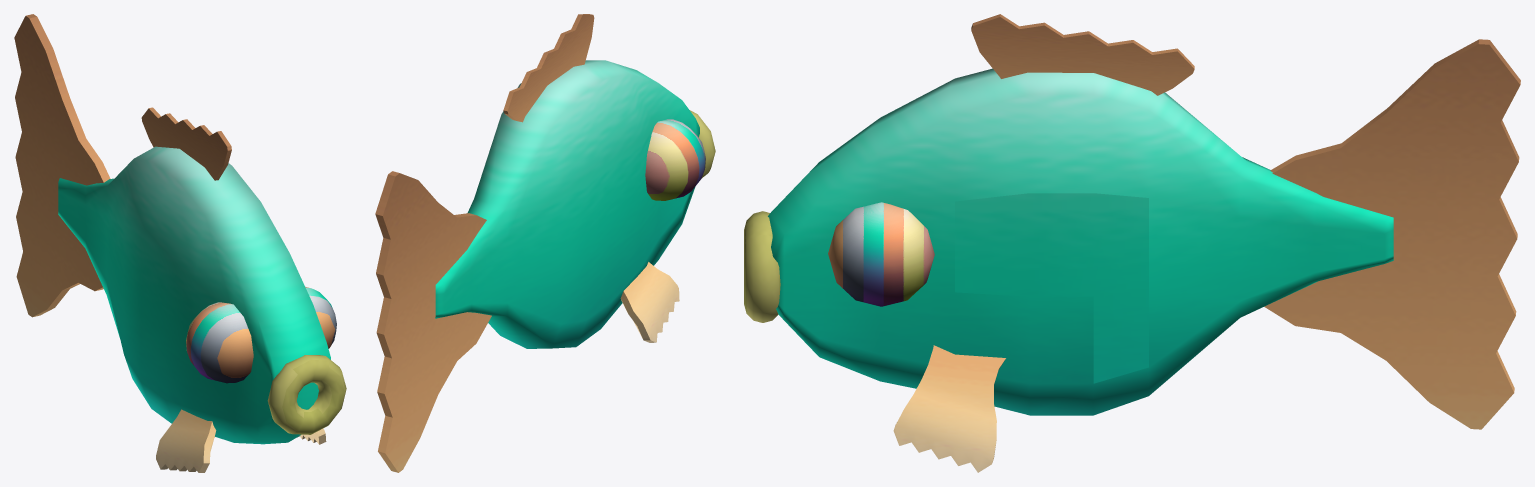
File: Fishy3.fbx
3 views of the same model, side by side, from view 1: azimuth 30°, elevation 25°; view 2: azimuth 150°, elevation 25°; view 3: azimuth 270°, elevation 25° (orthographic). The views are drawn at different scales.
Visible parts, largest first — view 1: pCube3, pPlane2, pSphere1, pTorus1, pPlane3, pPlane1; view 2: pCube3, pPlane2, pSphere1, pPlane3, pPlane1, pTorus1; view 3: pCube3, pPlane2, pPlane3, pPlane1, pSphere1, pTorus1.
Boxes of the visible parts, x1,y1,x2,y2 form: pCube3: (58, 146, 330, 444); pPlane2: (14, 14, 110, 317); pSphere1: (186, 287, 336, 383); pTorus1: (267, 355, 346, 434); pPlane3: (141, 107, 231, 180); pPlane1: (156, 409, 326, 472); pCube3: (435, 60, 699, 348); pPlane2: (375, 171, 491, 472); pSphere1: (645, 119, 705, 200); pPlane3: (503, 14, 594, 122); pPlane1: (620, 262, 679, 342); pTorus1: (690, 110, 715, 177); pCube3: (768, 68, 1393, 415); pPlane2: (1264, 39, 1520, 429); pPlane3: (971, 14, 1194, 95); pPlane1: (893, 345, 1005, 472); pSphere1: (828, 202, 934, 306); pTorus1: (744, 211, 780, 322).
Bounding box in the file's own units: 3.51 × 7.16 × 12.21.
1 material, 1 textured.
